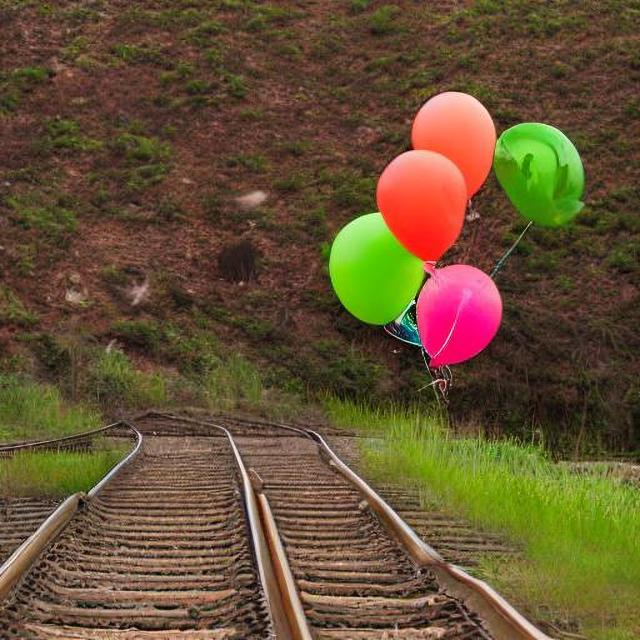balloon: (369, 87, 493, 258), (322, 206, 421, 332), (488, 119, 586, 229), (409, 256, 503, 368)
